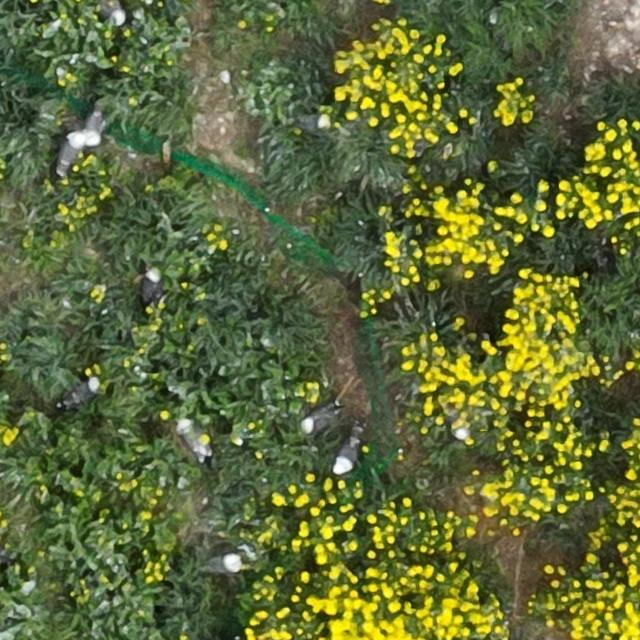umineko: (332, 426, 360, 476), (178, 421, 208, 458), (58, 131, 82, 170), (67, 377, 98, 402), (302, 407, 334, 431), (208, 551, 244, 572), (86, 108, 105, 146), (140, 270, 157, 300)
